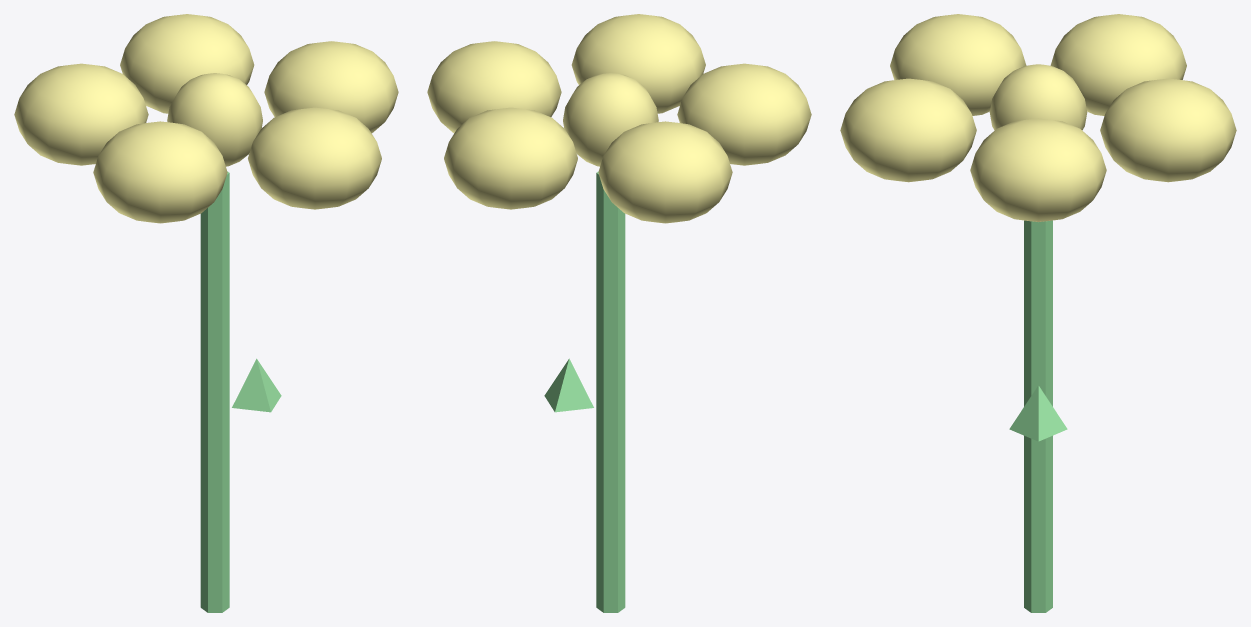
The model's file is flower_1.glb.
3 views of the same model, side by side, from view 1: azimuth 30°, elevation 25°; view 2: azimuth 150°, elevation 25°; view 3: azimuth 270°, elevation 25° (orthographic).
Visible parts, largest first — view 1: stem, petal_4, petal_3, petal_2, petal_0, petal_1, center, leaf; view 2: stem, petal_1, petal_2, petal_3, petal_0, petal_4, center, leaf; view 3: petal_1, petal_4, petal_0, stem, petal_3, petal_2, center, leaf.
Boxes of the visible parts, x1,y1,x2,y2 form: stem: [200, 171, 229, 612]; petal_4: [248, 107, 381, 209]; petal_3: [93, 121, 227, 223]; petal_2: [14, 63, 148, 165]; petal_0: [264, 41, 398, 133]; petal_1: [120, 14, 254, 113]; center: [167, 73, 262, 166]; leaf: [232, 358, 281, 412]; stem: [596, 171, 625, 612]; petal_1: [444, 107, 577, 209]; petal_2: [598, 121, 732, 223]; petal_3: [677, 63, 811, 165]; petal_0: [427, 41, 561, 132]; petal_4: [571, 14, 705, 113]; center: [563, 73, 658, 166]; leaf: [544, 358, 593, 412]; petal_1: [1100, 78, 1236, 182]; petal_4: [840, 78, 976, 182]; petal_0: [970, 118, 1106, 221]; stem: [1024, 220, 1052, 612]; petal_3: [890, 14, 1026, 115]; petal_2: [1050, 14, 1186, 115]; center: [989, 64, 1087, 130]; leaf: [1009, 385, 1067, 441].
Size of the model in its own units: 0.3933 by 0.61 by 0.4063.
